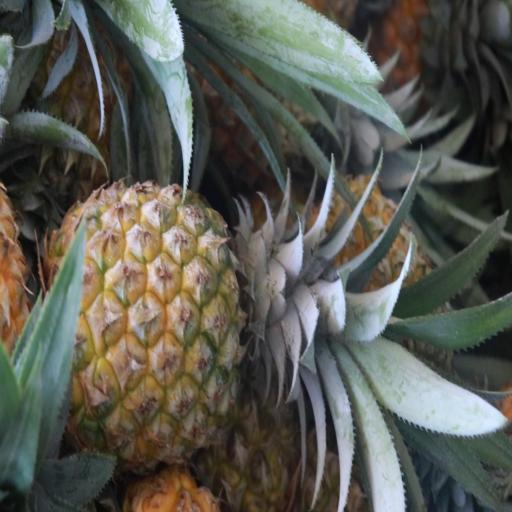Pineapple - v8 v1: (45, 182, 254, 460)
